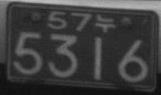1: (85, 36, 110, 80)
3: (48, 33, 78, 78)
5: (13, 31, 43, 76), (47, 10, 67, 30)
6: (117, 38, 148, 83)
7: (70, 11, 93, 32)
누: (94, 12, 116, 33)
